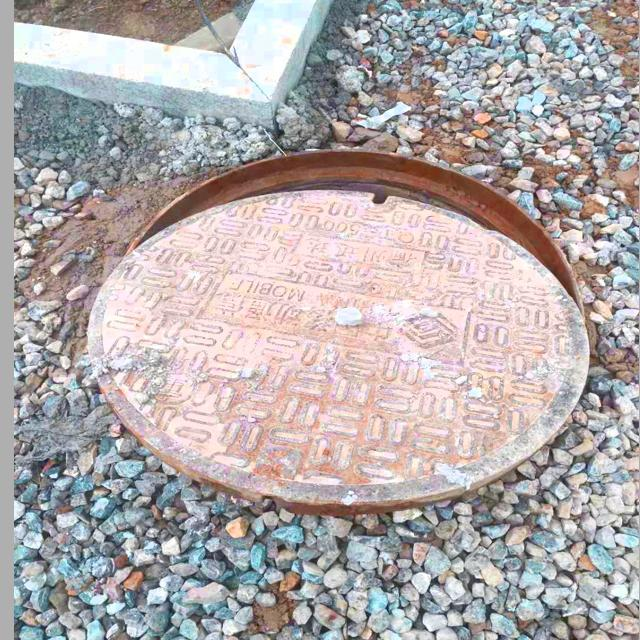uncovered: (96, 150, 596, 515)
